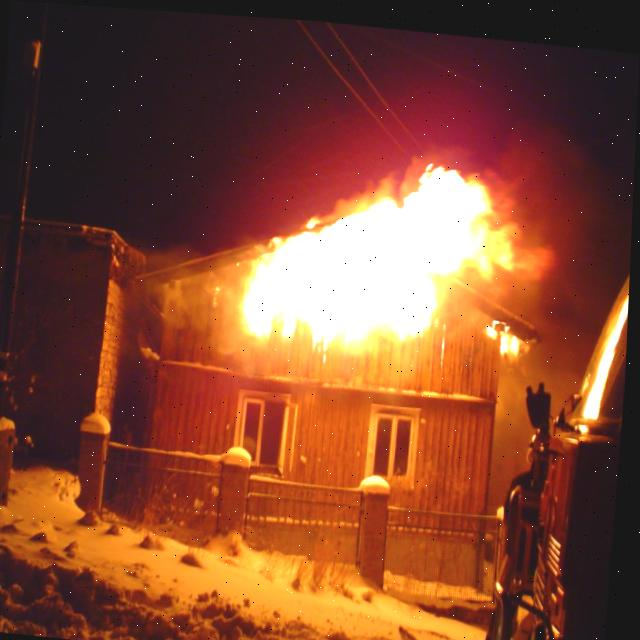fire: (245, 160, 517, 337)
smoke: (208, 63, 634, 462)
